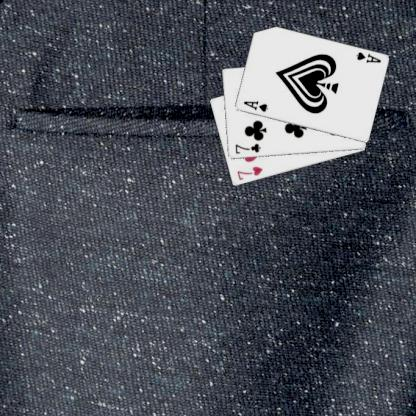7C: (232, 141, 262, 155)
7H: (234, 163, 264, 182)
AS: (353, 49, 383, 64), (240, 98, 268, 113)
